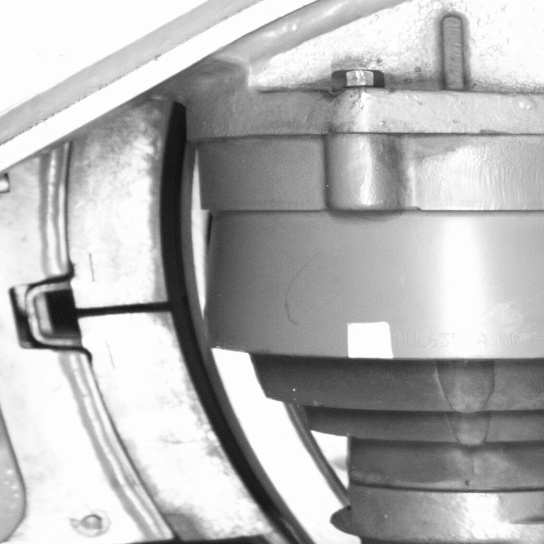KnifeSwitch: (92, 134, 315, 541)
